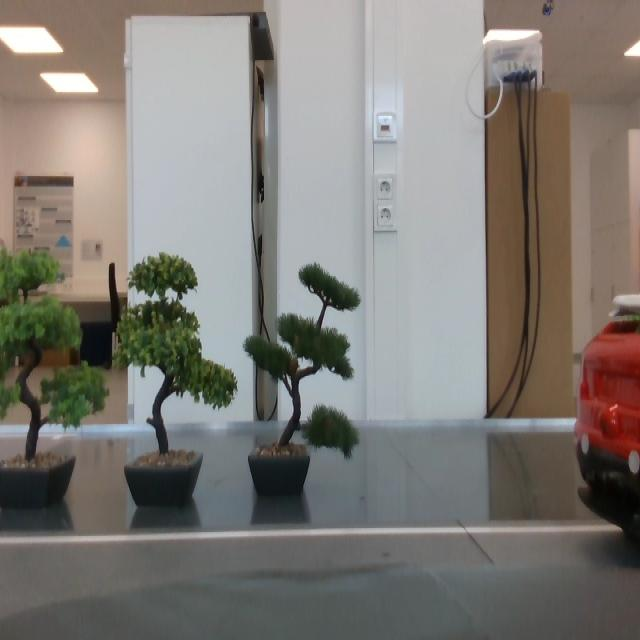car: (573, 293, 640, 542)
potted plant: (114, 253, 236, 511), (1, 237, 108, 506), (243, 261, 362, 496)
